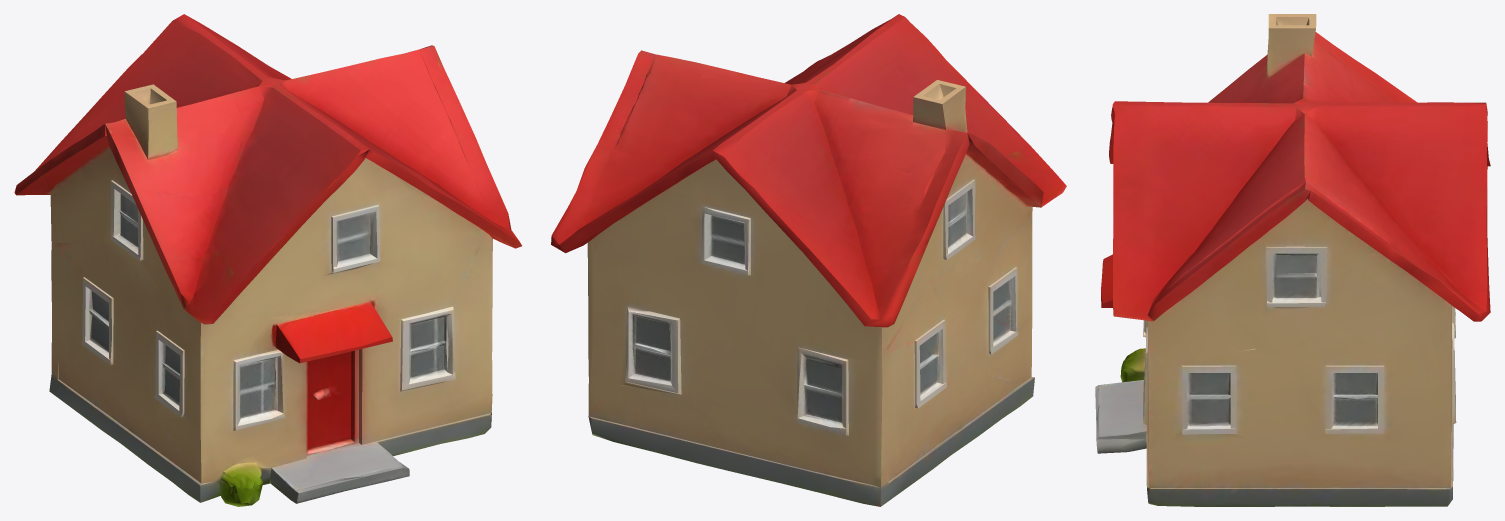
The model's file is houseA.glb.
3 renders of one model, left to right at view 1: azimuth 30°, elevation 25°; view 2: azimuth 150°, elevation 25°; view 3: azimuth 270°, elevation 25°, orthographic.
Visible parts, largest first — view 1: model; view 2: model; view 3: model.
Boxes of the visible parts, bbox=[...] form: model: bbox=[14, 14, 521, 506]; model: bbox=[551, 14, 1066, 506]; model: bbox=[1095, 14, 1490, 506].
Bounding box in the file's own units: 1.89 × 1.89 × 1.89.
1 material, 1 textured.
